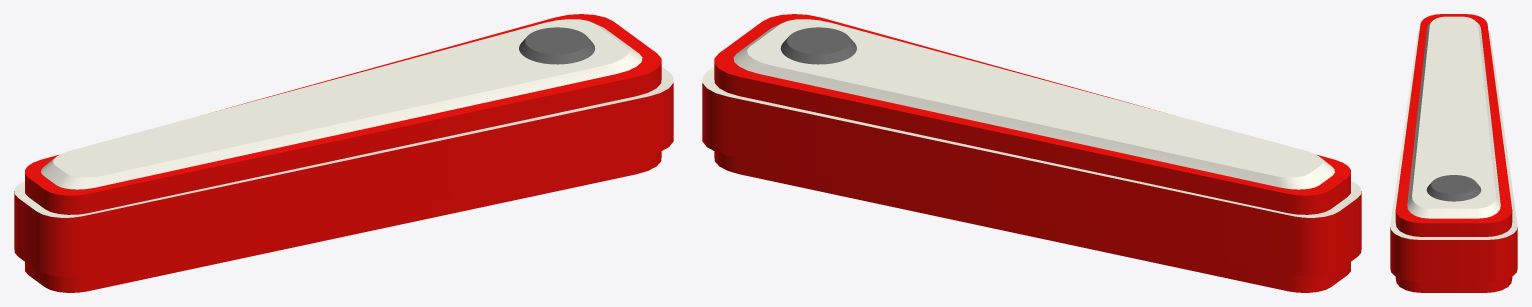
Rendered from Paddle.fbx.
The picture shows the model from 3 angles, left to right: view 1: azimuth 30°, elevation 25°; view 2: azimuth 150°, elevation 25°; view 3: azimuth 270°, elevation 25°; orthographic projection. The views are drawn at different scales.
Visible parts, largest first — view 1: Paddle; view 2: Paddle; view 3: Paddle.
Part boxes in pixels (left/top/right/bottom): Paddle: left=14, top=14, right=673, bottom=292; Paddle: left=702, top=14, right=1361, bottom=292; Paddle: left=1390, top=14, right=1517, bottom=292.
Size of the model in its own units: 400 by 70 by 100.
